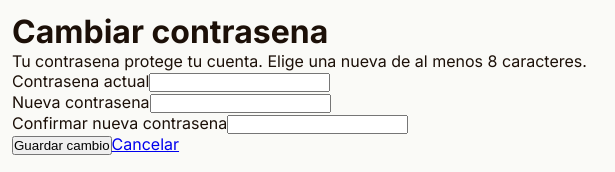
Test: ChangePasswordPage (UC-AUTH-08) › valida que la contrasena actual sea obligatoria
Click the button "Guardar cambio": (62, 146) [12,136,112,155]
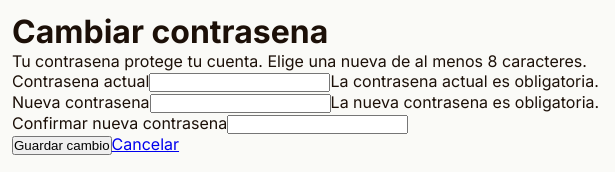
Now the text "La contrasena actual es obligatoria." is shown, box [330,71,599,91]
